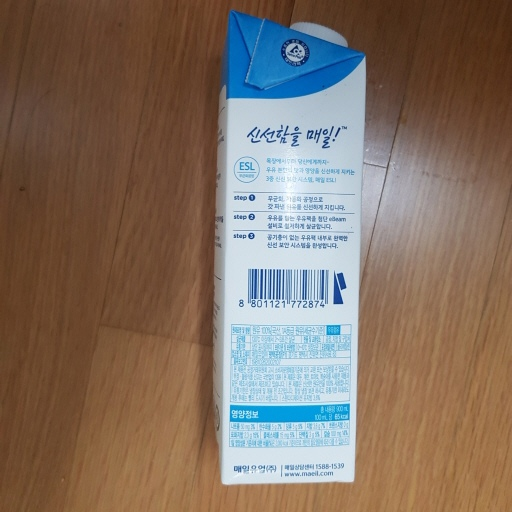Paper_0: (205, 8, 382, 489)
